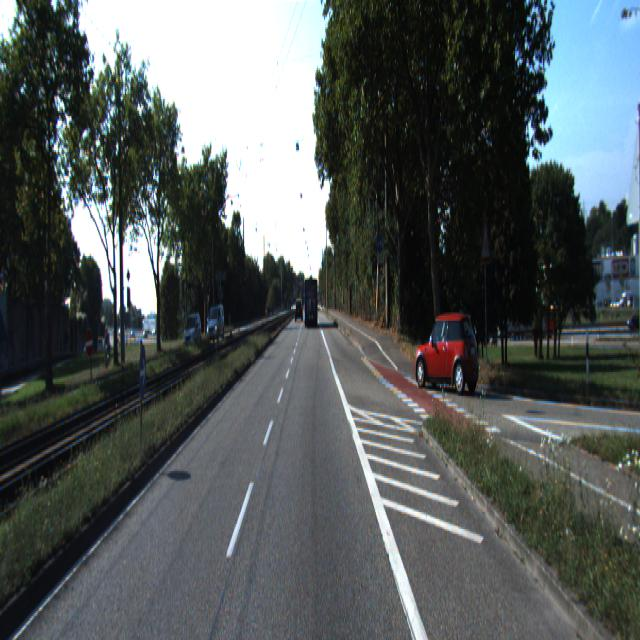Car: (414, 313, 481, 399), (182, 314, 203, 352), (304, 276, 318, 328), (206, 306, 225, 343)
